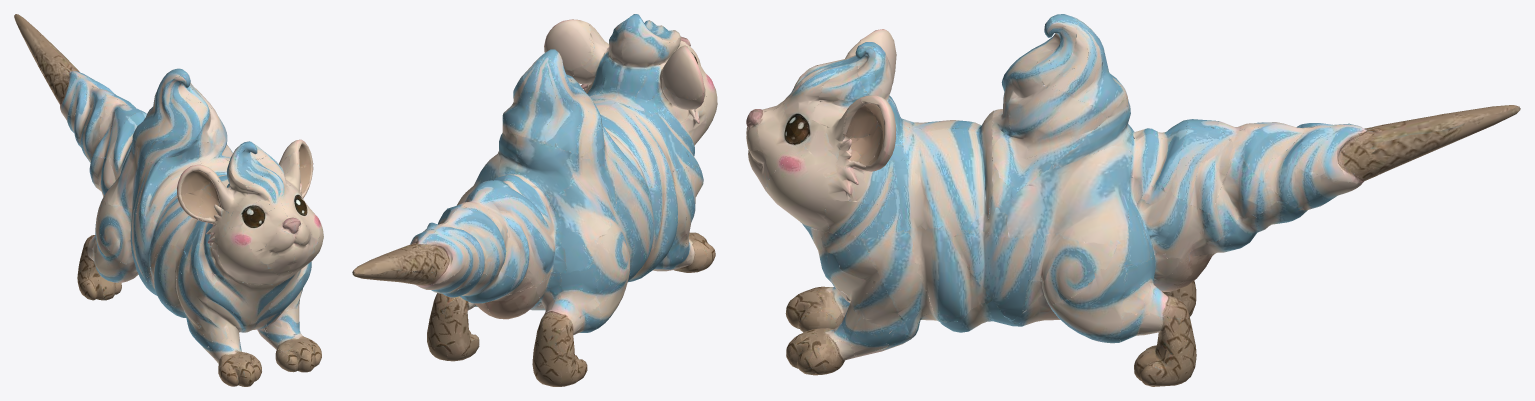
3 renders of one model, left to right at view 1: azimuth 30°, elevation 25°; view 2: azimuth 150°, elevation 25°; view 3: azimuth 270°, elevation 25°, orthographic. The views are drawn at different scales.
Parts seen in each view (by area): view 1: Mesh_0; view 2: Mesh_0; view 3: Mesh_0.
Boxes of the visible parts, box(x1,y1,x2,y2) form: Mesh_0: box(14, 14, 323, 386); Mesh_0: box(352, 14, 717, 386); Mesh_0: box(746, 14, 1520, 386).
Size of the model in its own units: 0.5594 by 0.8965 by 1.9.
1 material, 1 textured.
